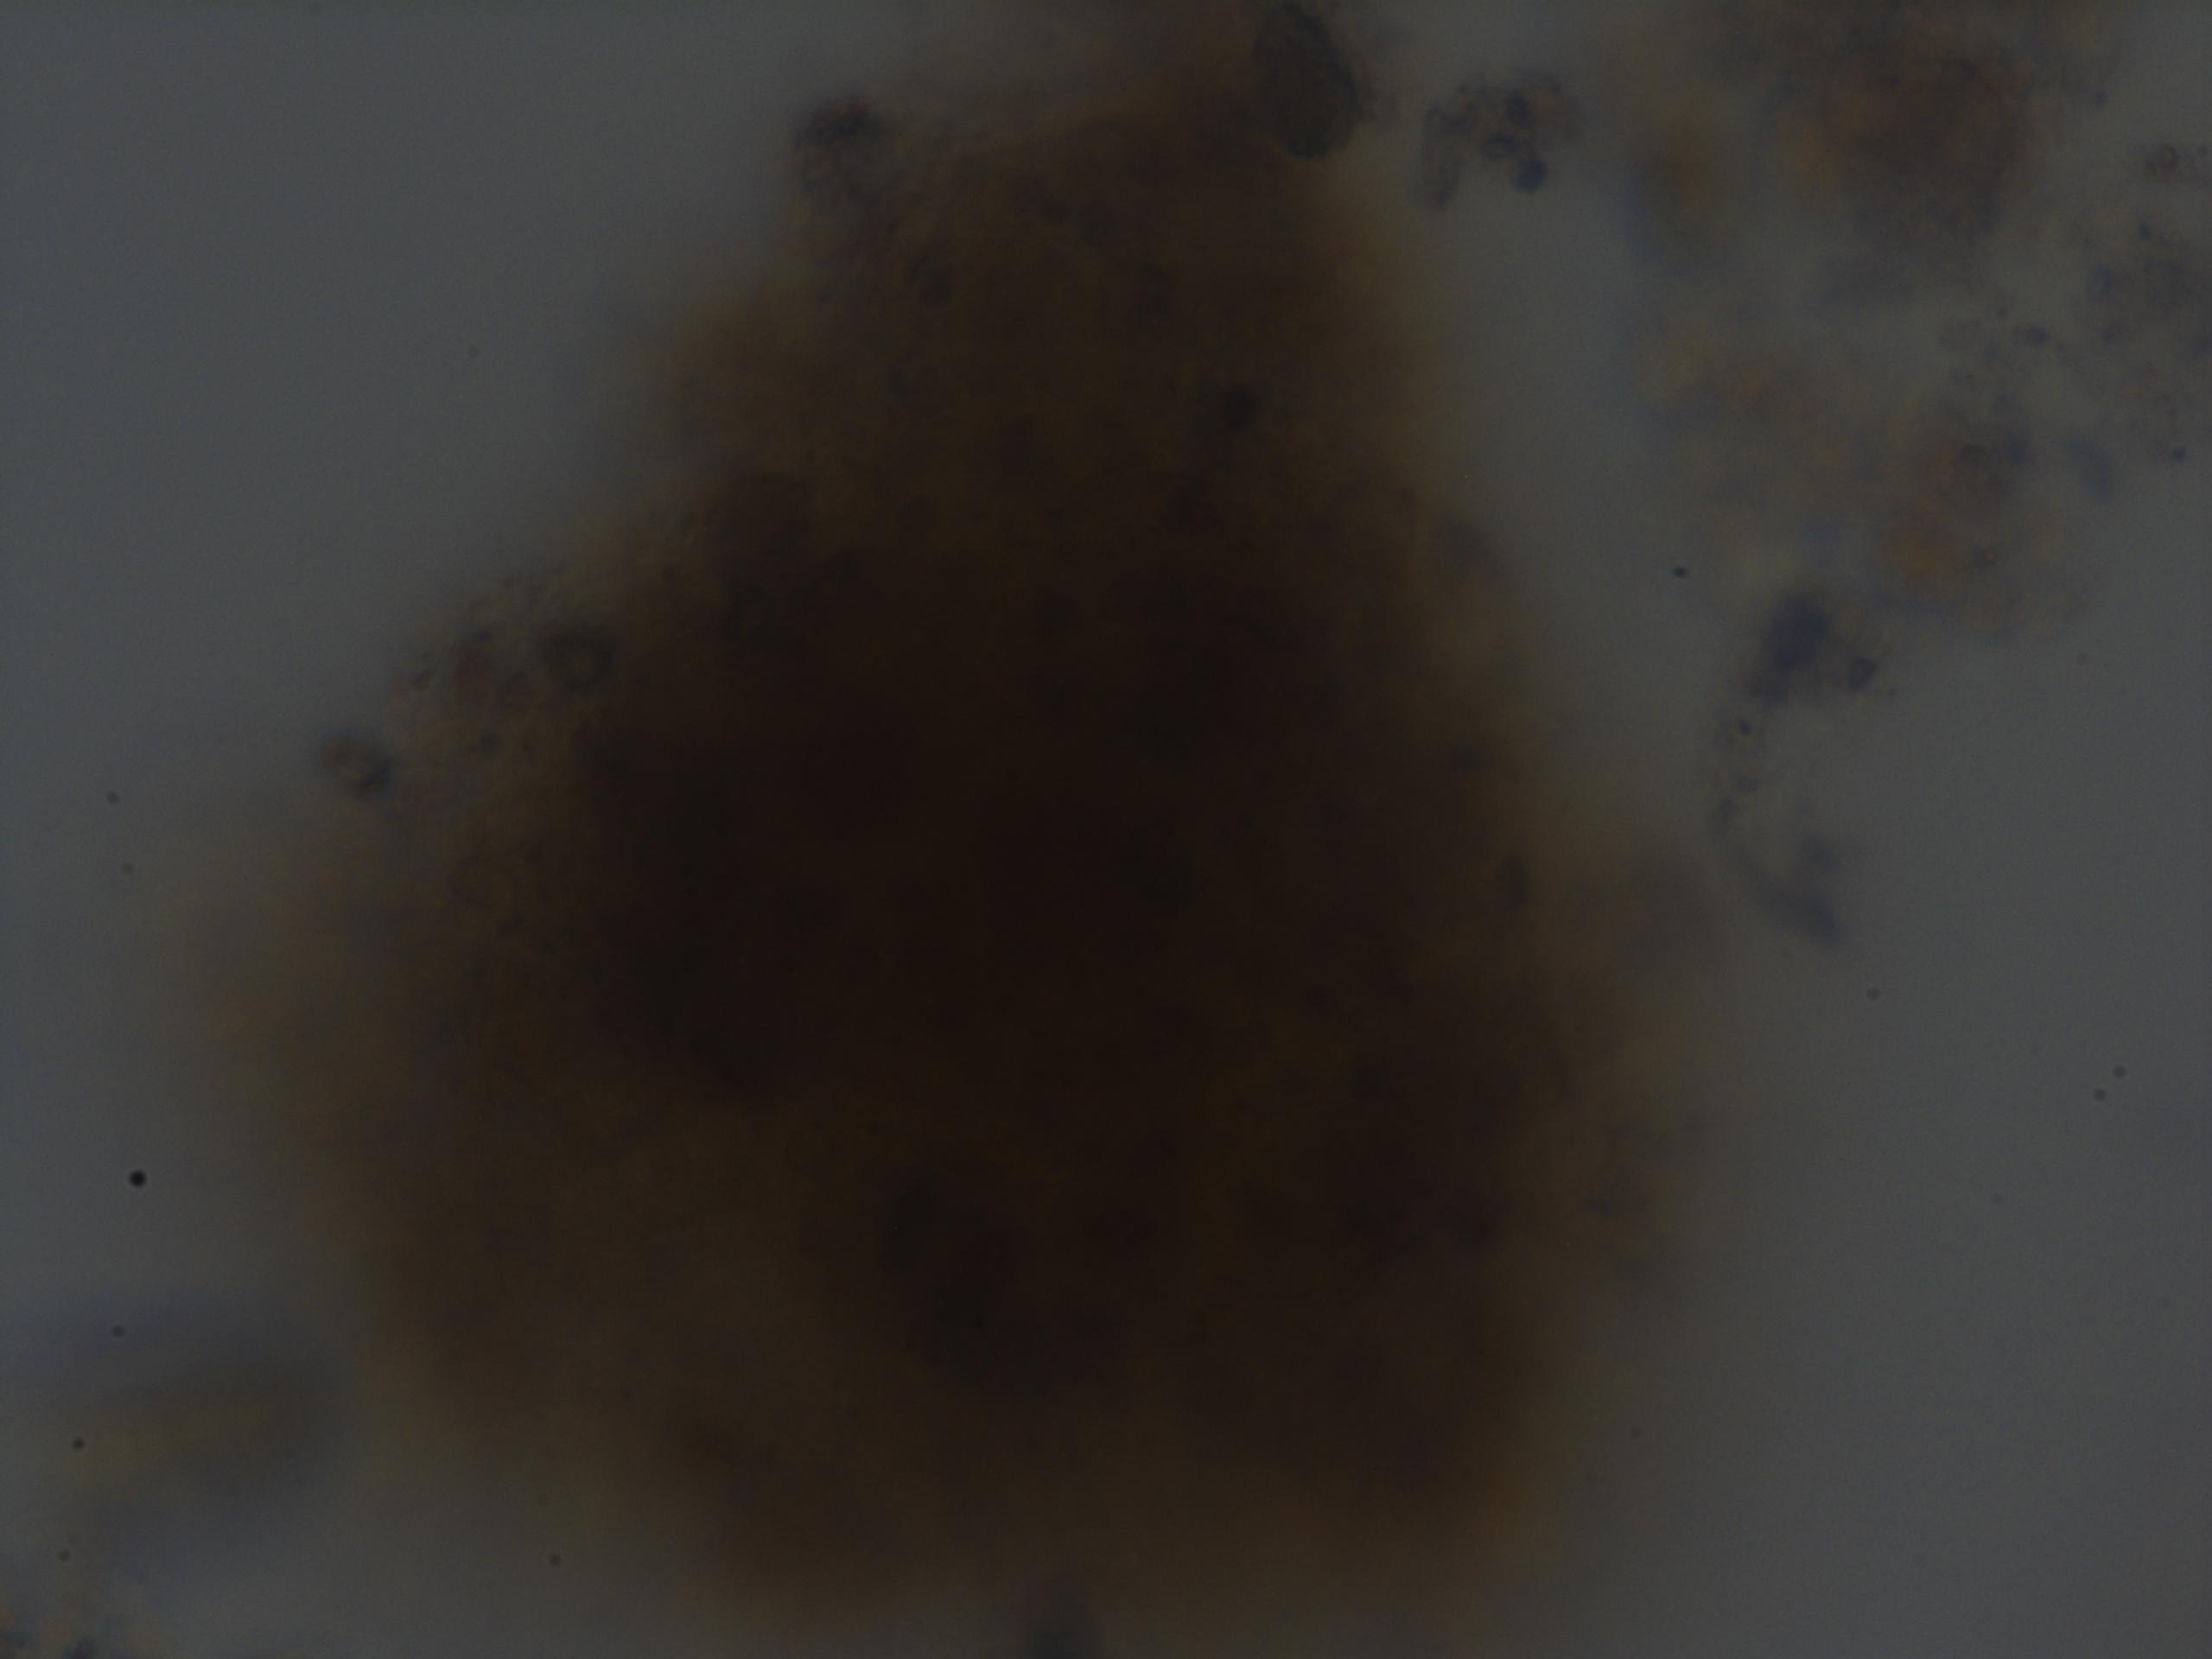spherical_floc: (282, 0, 1655, 1659)
